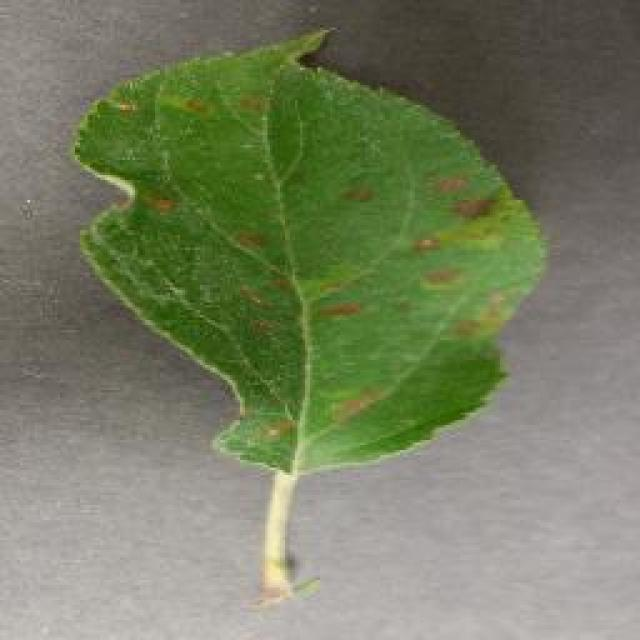apple rust disease: (70, 23, 550, 605)
